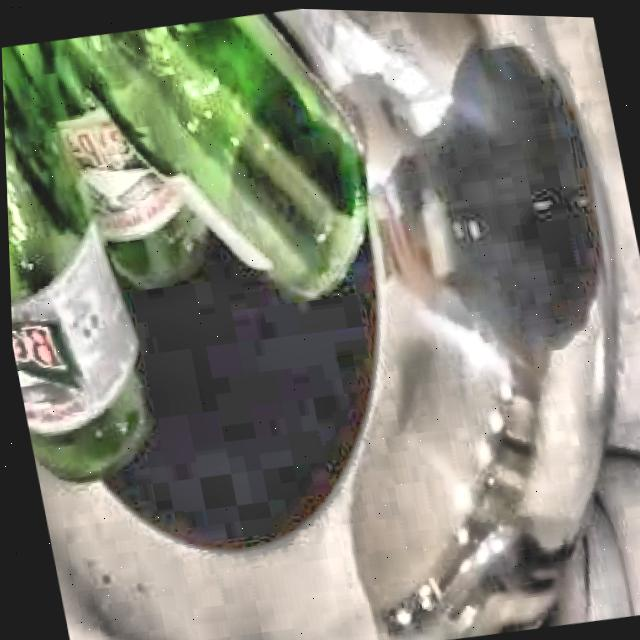glass: (1, 11, 365, 479)
